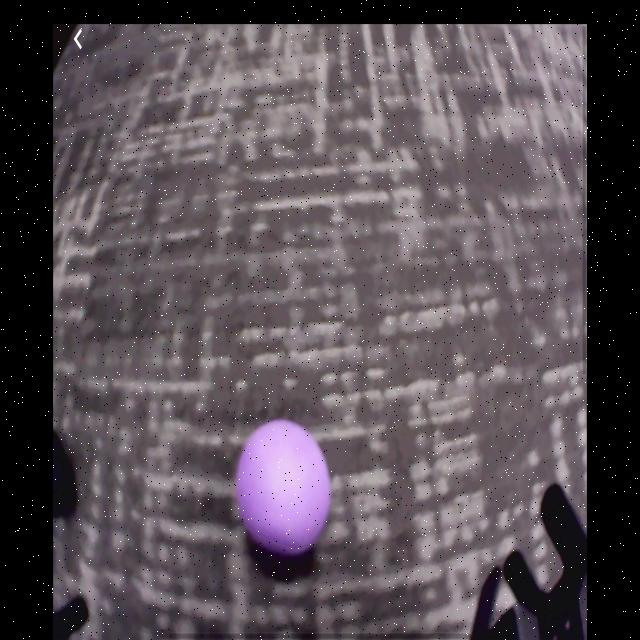ball: (237, 422, 334, 559)
